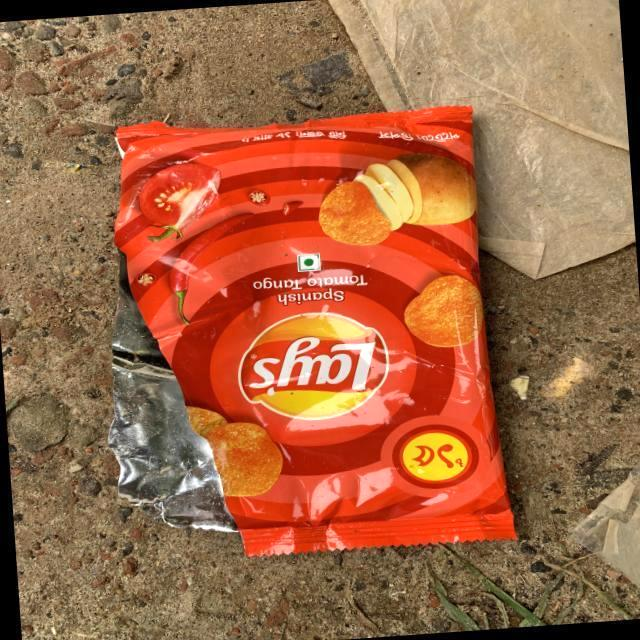packet: (92, 94, 525, 570)
